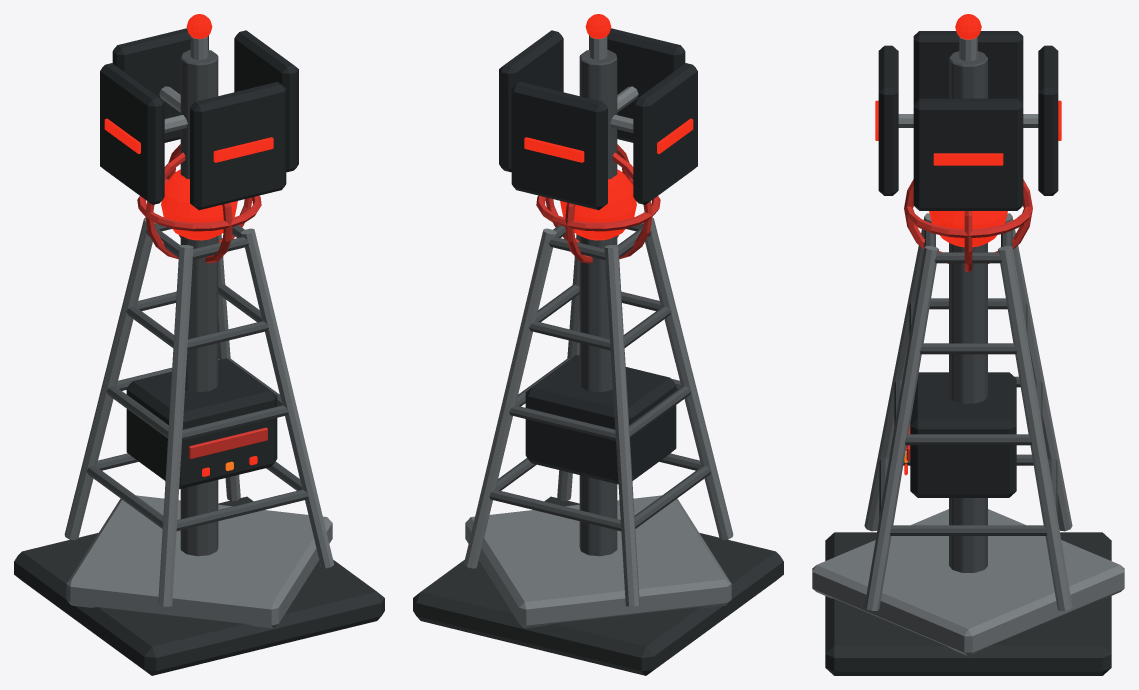
The model's file is SignalJam.glb.
3 renders of one model, left to right at view 1: azimuth 30°, elevation 25°; view 2: azimuth 150°, elevation 25°; view 3: azimuth 270°, elevation 25°, orthographic. The views are drawn at different scales.
Visible parts, largest first — view 1: FTF_Tool_SignalJammerTower_4m_v1_Static; view 2: FTF_Tool_SignalJammerTower_4m_v1_Static; view 3: FTF_Tool_SignalJammerTower_4m_v1_Static.
Part boxes in pixels (x1,y1,x2,y2): FTF_Tool_SignalJammerTower_4m_v1_Static: (14,14,384,675); FTF_Tool_SignalJammerTower_4m_v1_Static: (413,14,783,675); FTF_Tool_SignalJammerTower_4m_v1_Static: (812,14,1124,675).
Bounding box in the file's own units: 1.87 × 4 × 1.87.
